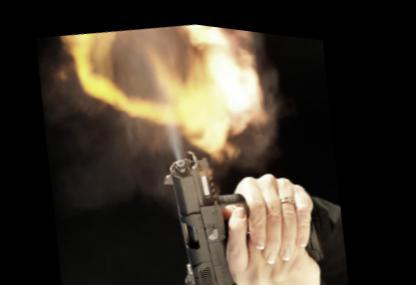pistol: (151, 118, 344, 283)
